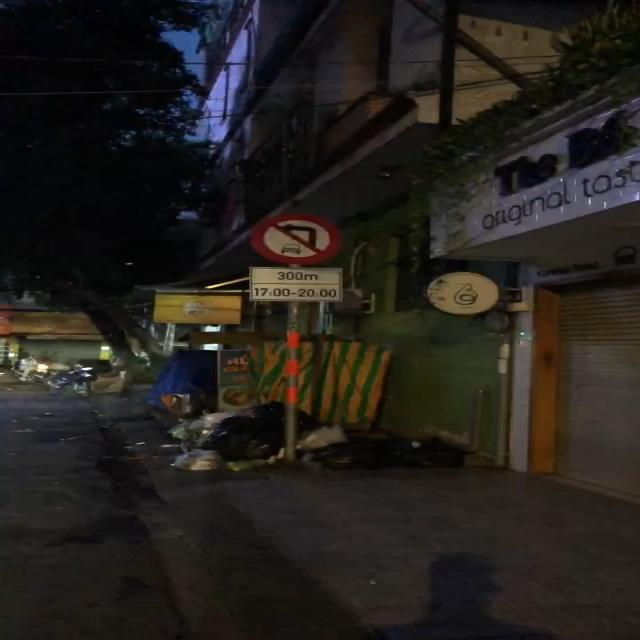Bien bao cam xe o to re trai: (246, 212, 348, 268)
